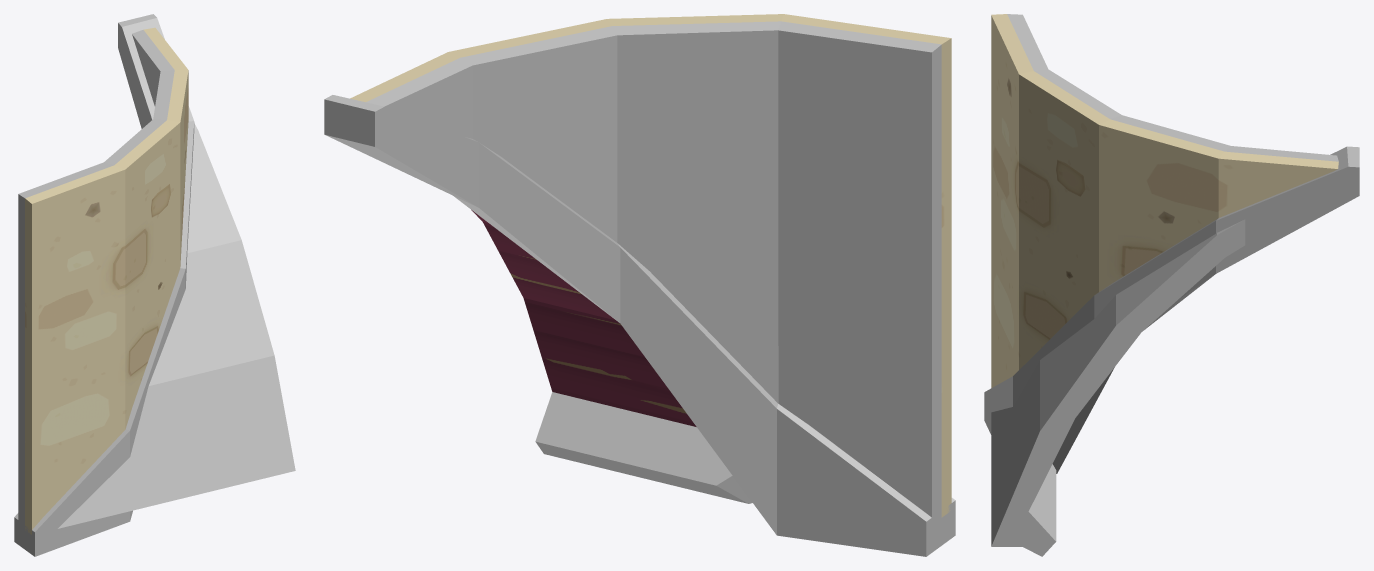
File: SM_Bld_Roof_Convex_Tower_02.fbx
3 renders of one model, left to right at view 1: azimuth 30°, elevation 25°; view 2: azimuth 150°, elevation 25°; view 3: azimuth 270°, elevation 25°, orthographic. The views are drawn at different scales.
Parts seen in each view (by area): view 1: SM_Bld_Roof_Convex_Tower_02; view 2: SM_Bld_Roof_Convex_Tower_02; view 3: SM_Bld_Roof_Convex_Tower_02.
Part boxes in pixels (bbox=[...]): SM_Bld_Roof_Convex_Tower_02: bbox=[14, 14, 295, 556]; SM_Bld_Roof_Convex_Tower_02: bbox=[324, 14, 955, 556]; SM_Bld_Roof_Convex_Tower_02: bbox=[984, 14, 1359, 556].
Size of the model in its own units: 266 by 322 by 266.
